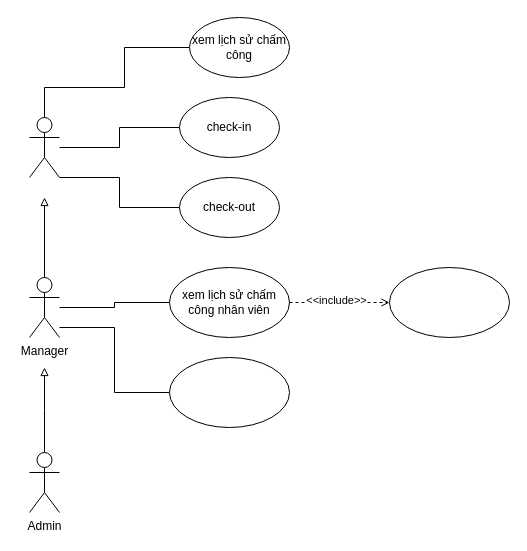
Image size: 527x551. Some labels were removed from this diagram. The centre of each missing label's shape, as x and y in pixels:
"Nhân viên" goes at pixel 44 147.
"view nhân viên" goes at pixel 449 302.
"xem danh sách chấm công hôm nay" goes at pixel 229 392.
